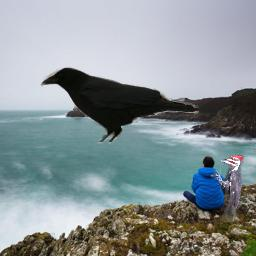Crow: (36, 63, 199, 144)
Woodpecker: (210, 155, 244, 222)
